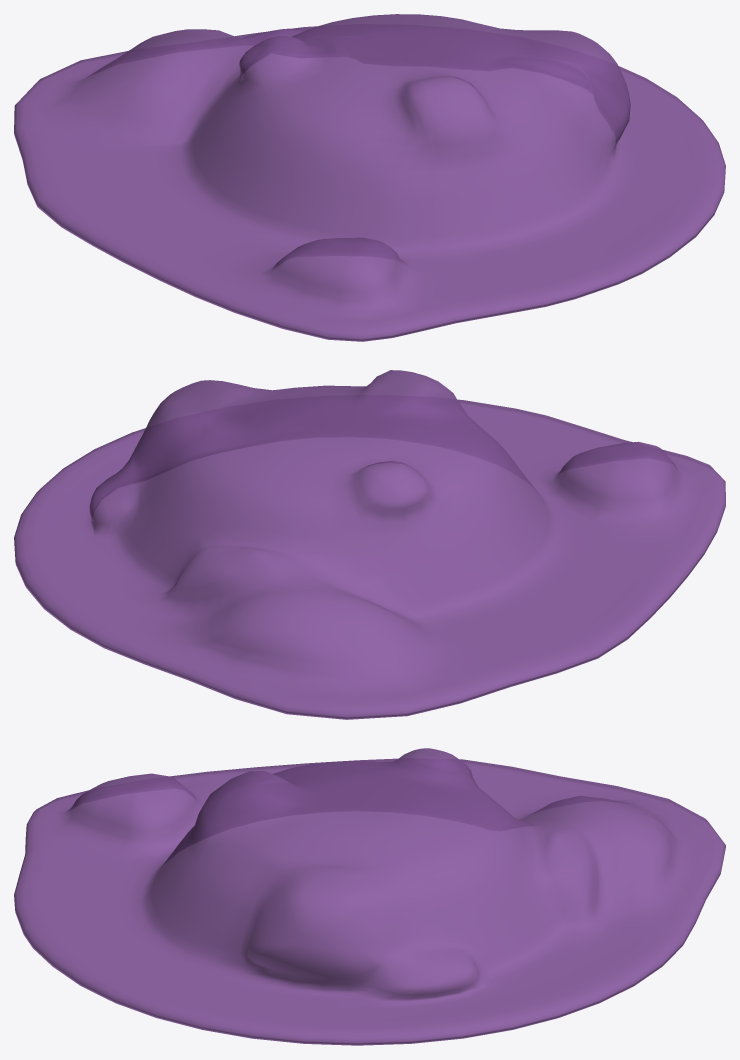
The model's file is slime.fbx.
The picture shows the model from 3 angles, top to bottom: view 1: azimuth 30°, elevation 25°; view 2: azimuth 150°, elevation 25°; view 3: azimuth 270°, elevation 25°; orthographic projection. The views are drawn at different scales.
Visible parts, largest first — view 1: slime; view 2: slime; view 3: slime.
Part boxes in pixels (bbox=[...]): slime: bbox=[14, 14, 725, 341]; slime: bbox=[14, 370, 725, 719]; slime: bbox=[14, 748, 725, 1045].
Bounding box in the file's own units: 61.73 × 13.36 × 65.76.
